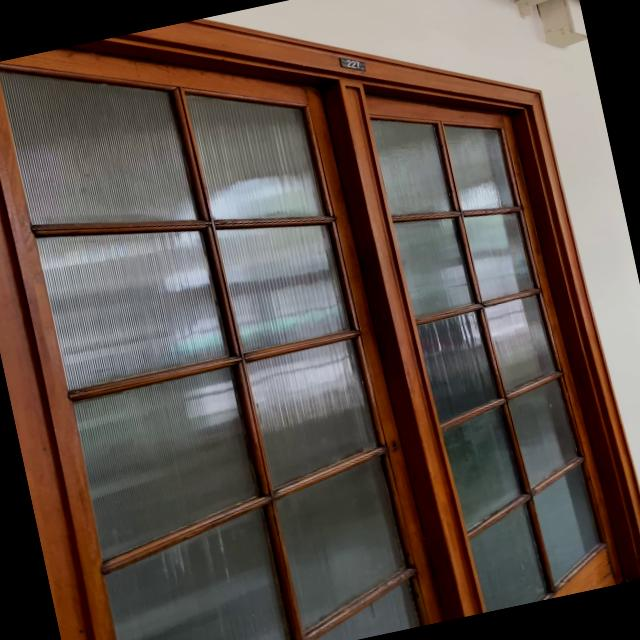room227: (337, 50, 367, 76)
